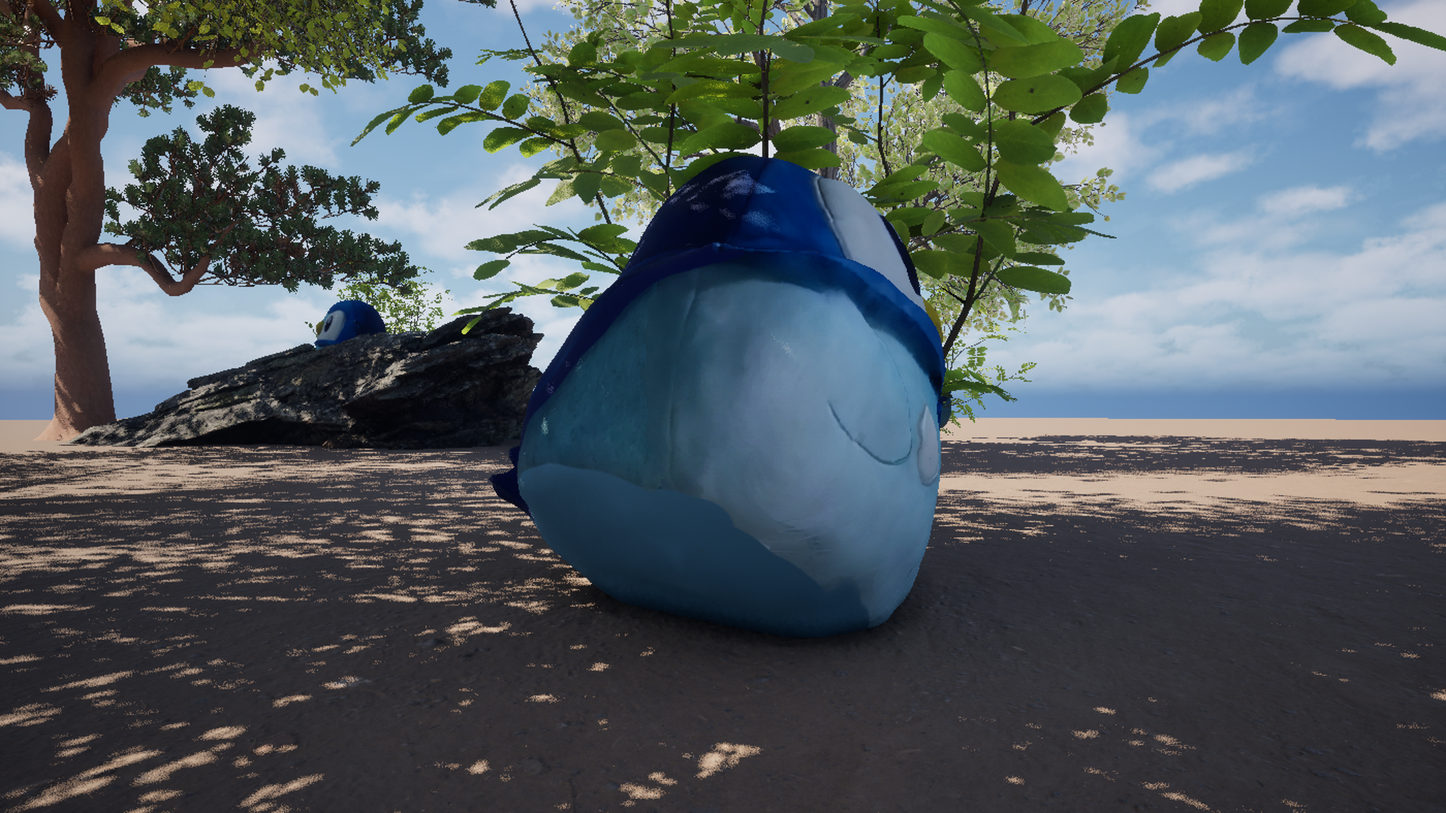Piplup: (266, 0, 950, 813)
